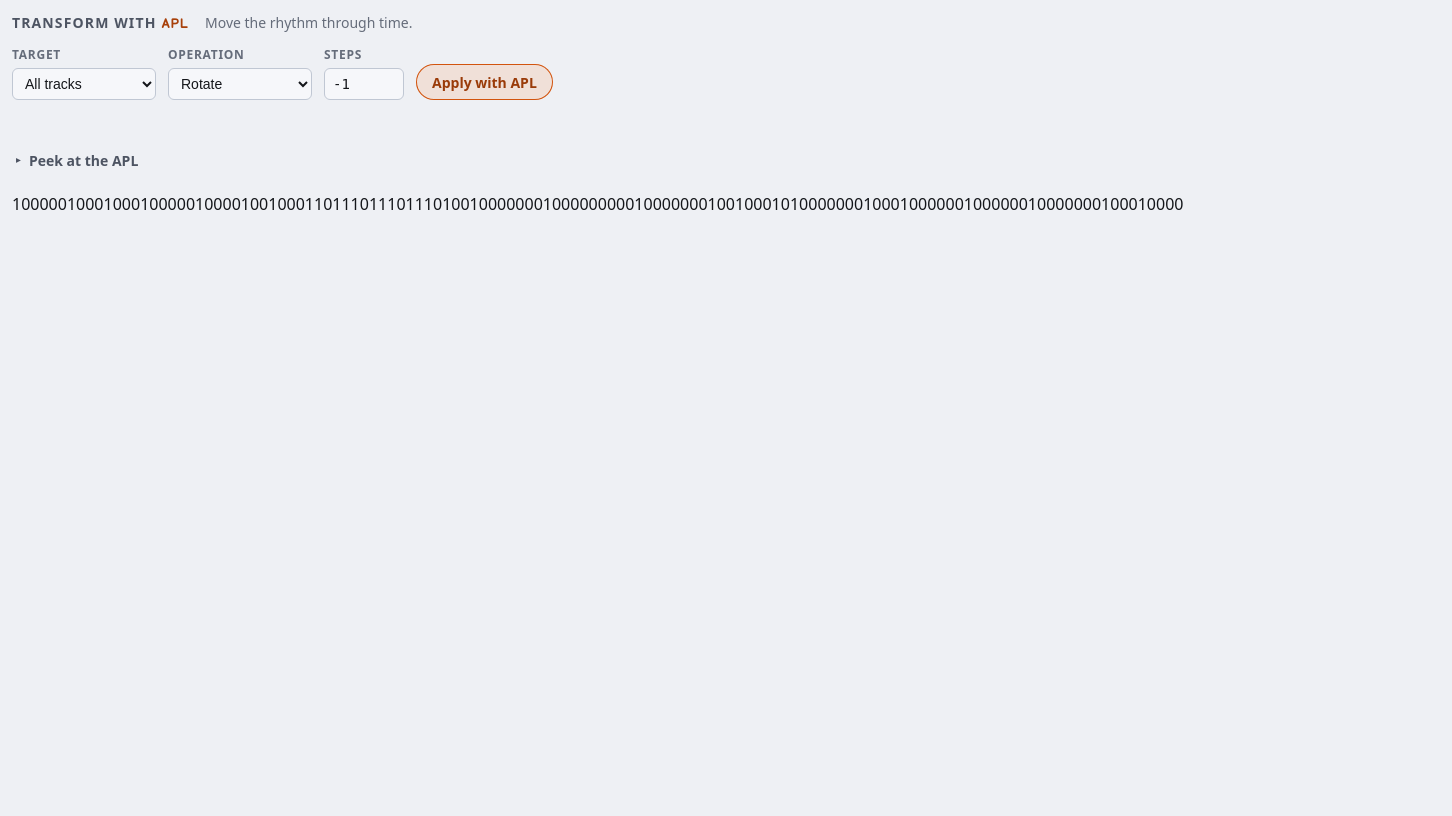
it: nothing asks APL until Apply is pressed › opening Peek makes no request
Click the button "▸ Peek at the APL" at (79, 160), box [12,144,146,176]
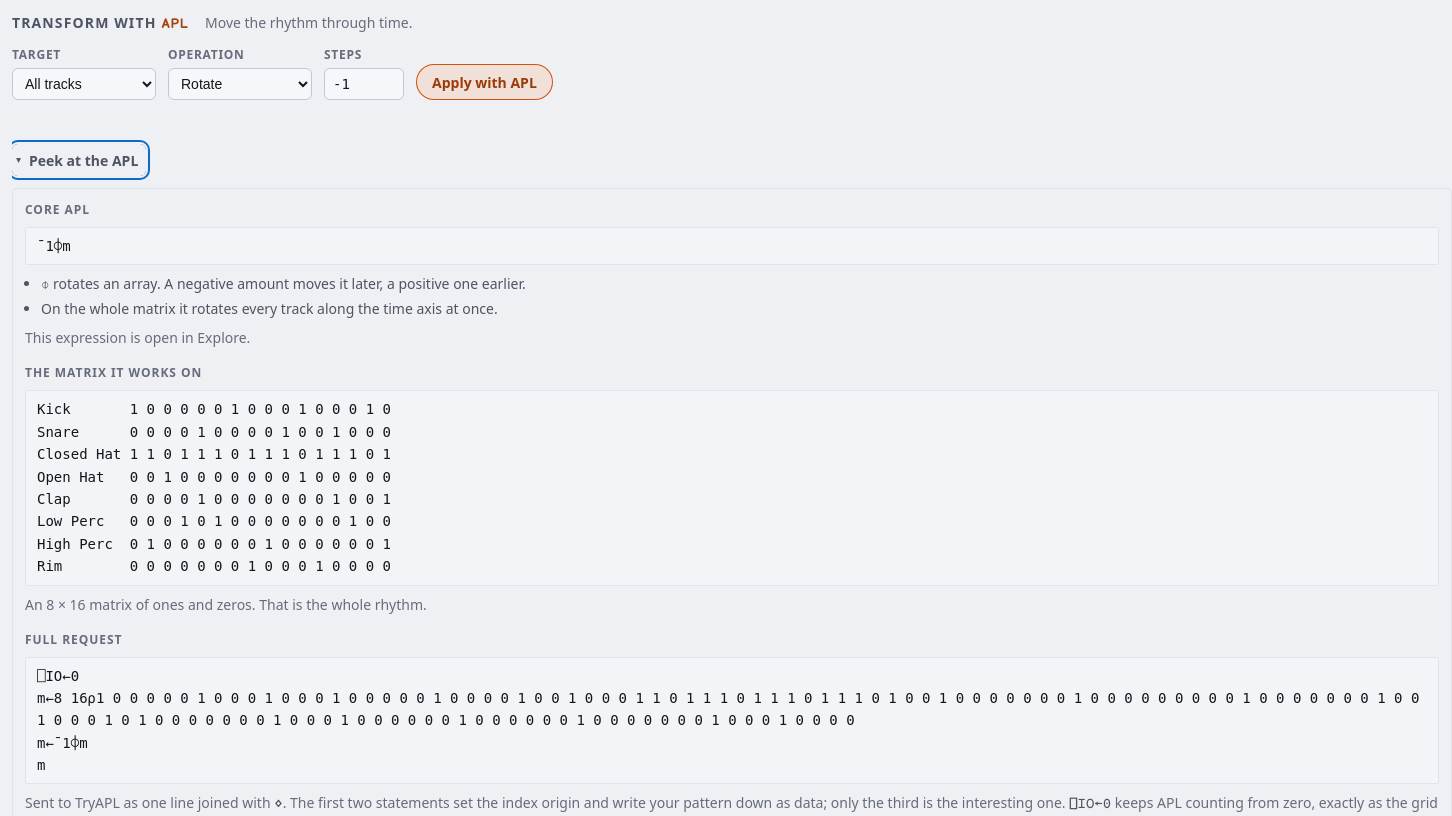
Check: the heading "Core APL" is shown, box [25,201,90,218]
